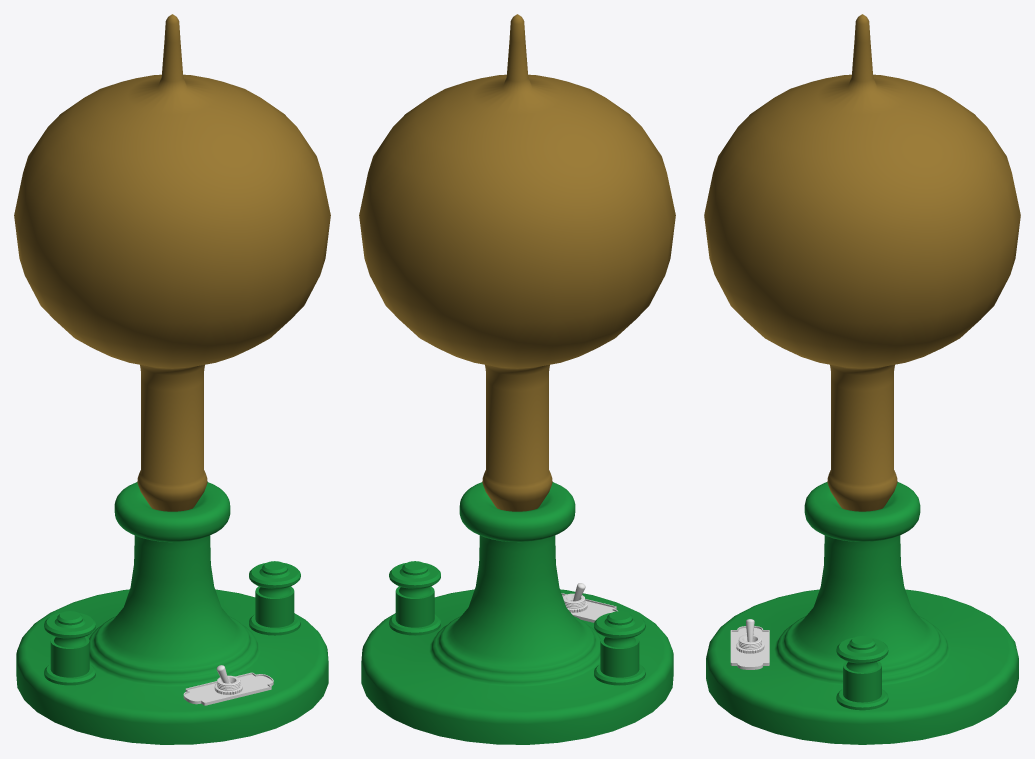
Rendered from Light_box.fbx.
3 views of the same model, side by side, from view 1: azimuth 30°, elevation 25°; view 2: azimuth 150°, elevation 25°; view 3: azimuth 270°, elevation 25° (orthographic).
Parts seen in each view (by area): view 1: Bulb, Light_Box, Off_On_Button; view 2: Bulb, Light_Box, Off_On_Button; view 3: Bulb, Light_Box, Off_On_Button.
Part boxes in pixels (bbox=[...]): Bulb: bbox=[14, 14, 330, 511]; Light_Box: bbox=[16, 482, 328, 744]; Off_On_Button: bbox=[183, 672, 273, 705]; Bulb: bbox=[359, 14, 675, 511]; Light_Box: bbox=[361, 482, 673, 744]; Off_On_Button: bbox=[561, 593, 617, 622]; Bulb: bbox=[704, 14, 1020, 511]; Light_Box: bbox=[706, 482, 1018, 744]; Off_On_Button: bbox=[730, 626, 769, 669].
Size of the model in its own units: 97.4 by 226 by 97.4.
